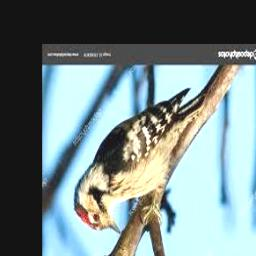Woodpecker: (74, 88, 206, 235)
